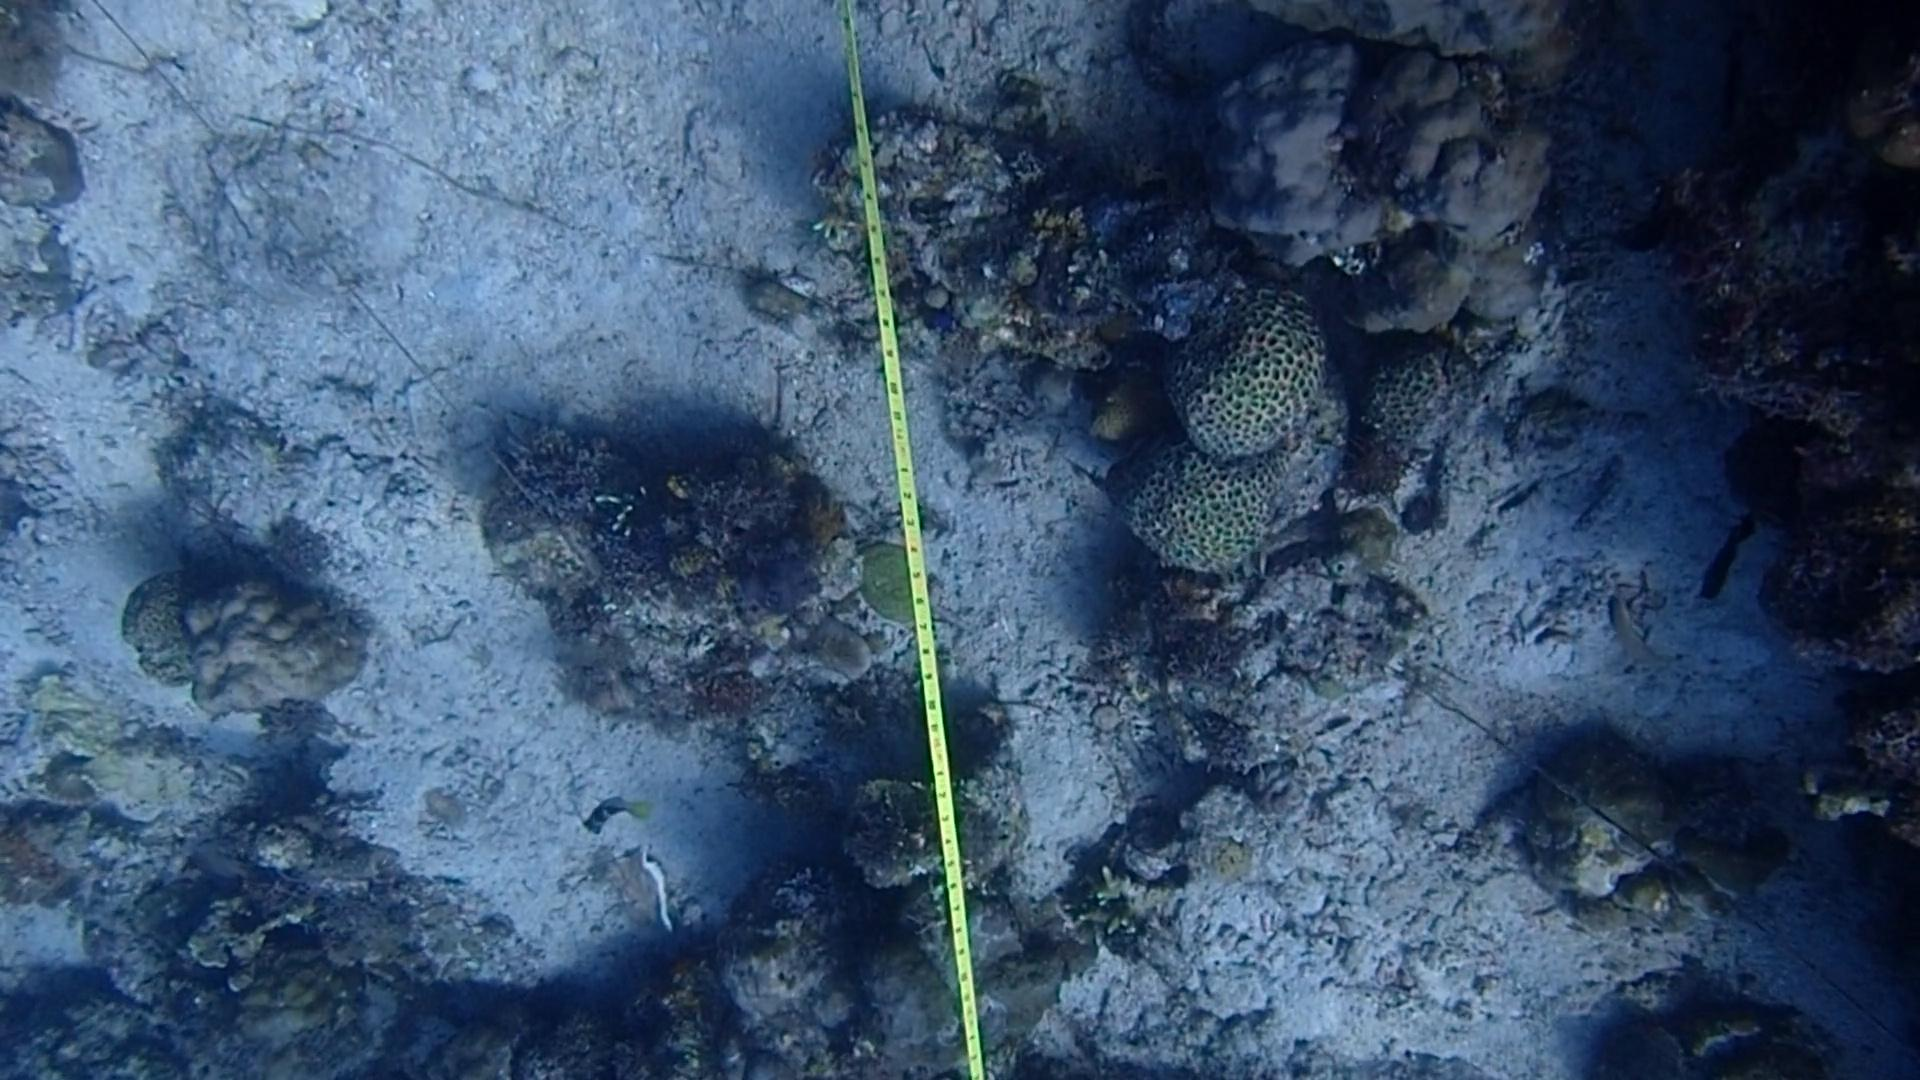Striped Fish: (572, 791, 650, 847)
